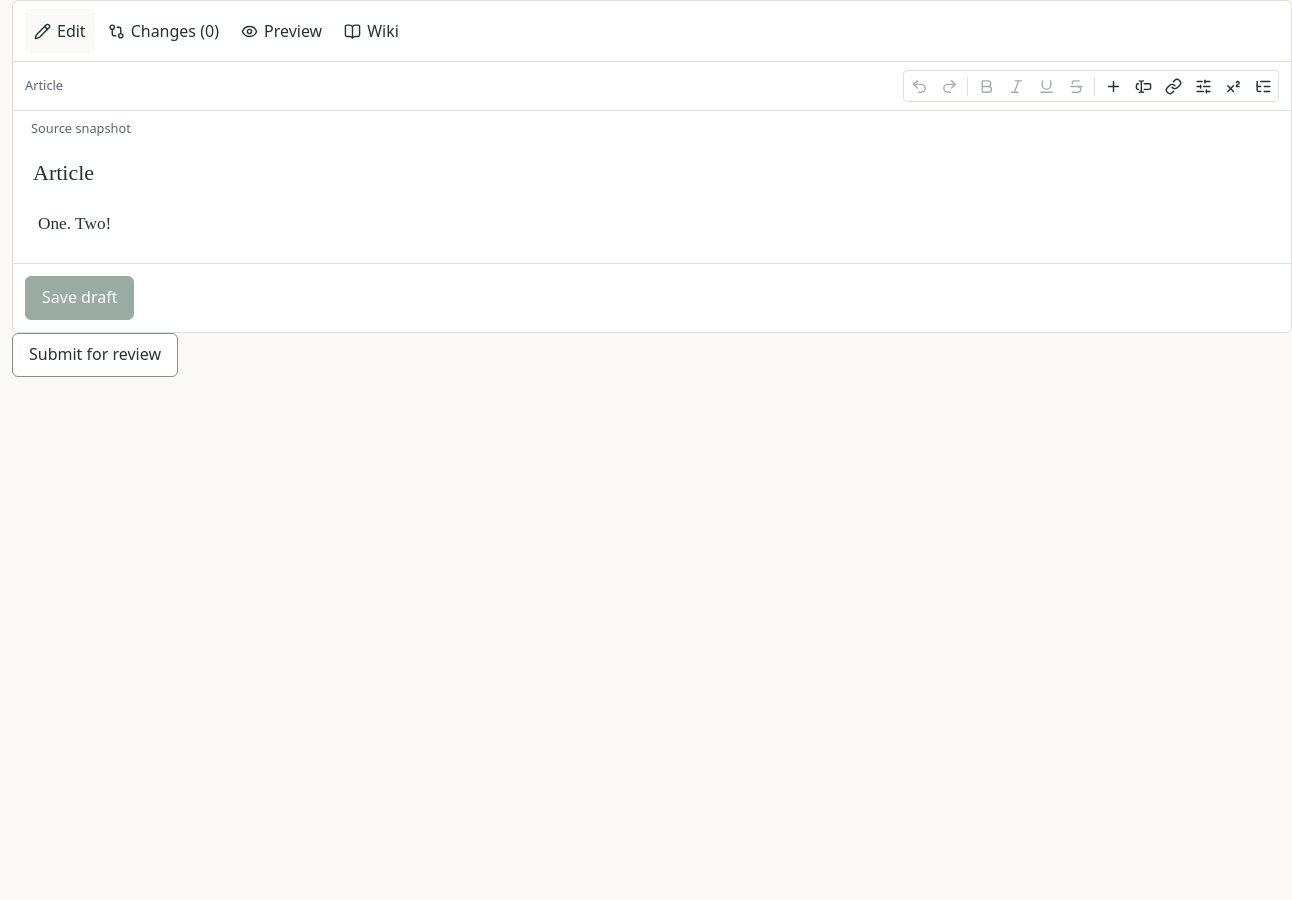
Test: compact structured editor acceptance › treats a pending note edit as unsaved and keeps local note undo separate until Apply
The image size is (1292, 900).
Click the button named "Footnotes": [1233, 86] box [1218,71,1248,101]
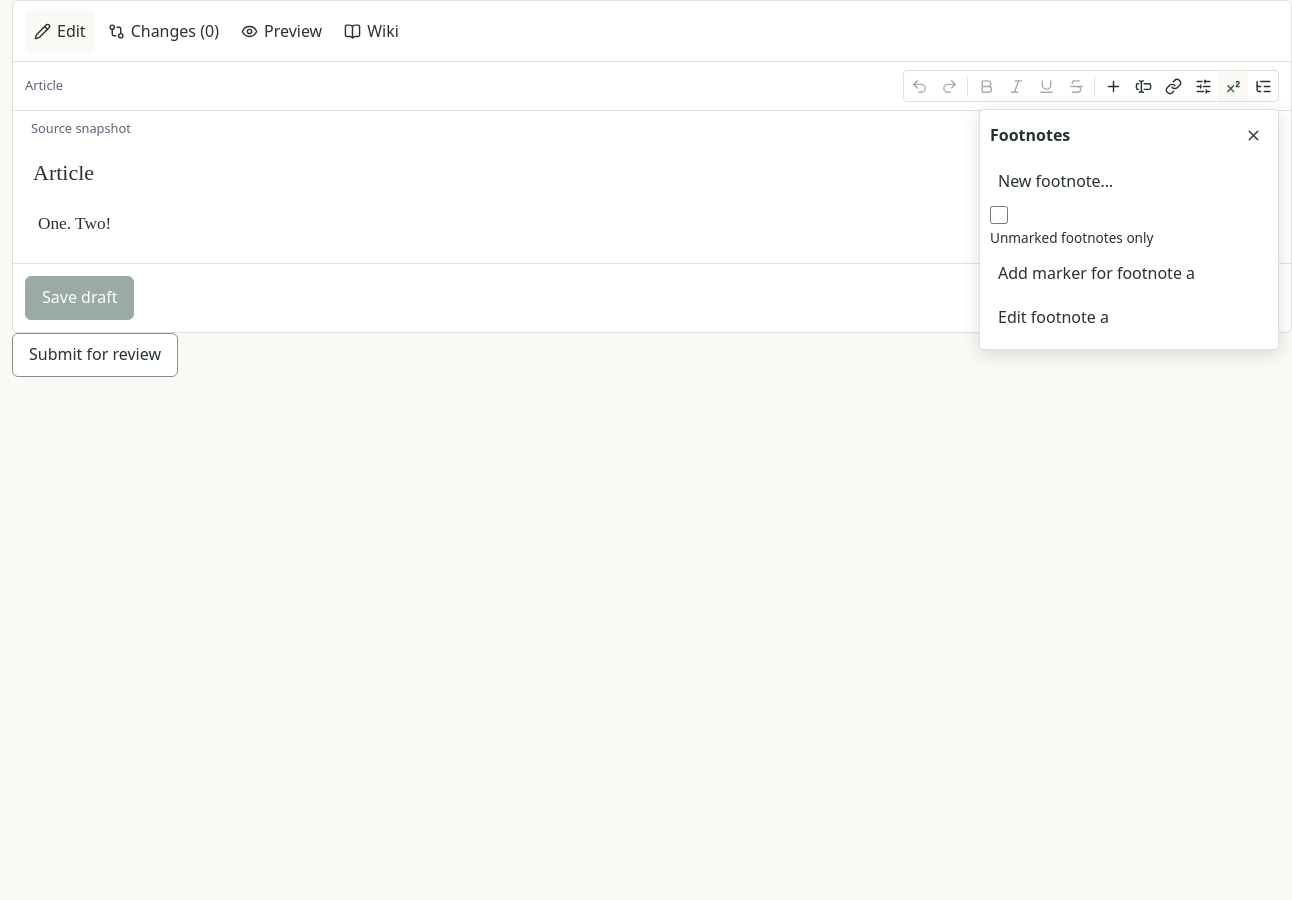
Check: the button "Edit footnote a" is shown
Click the button "Edit footnote a": [1047, 317] box [990,295,1268,339]
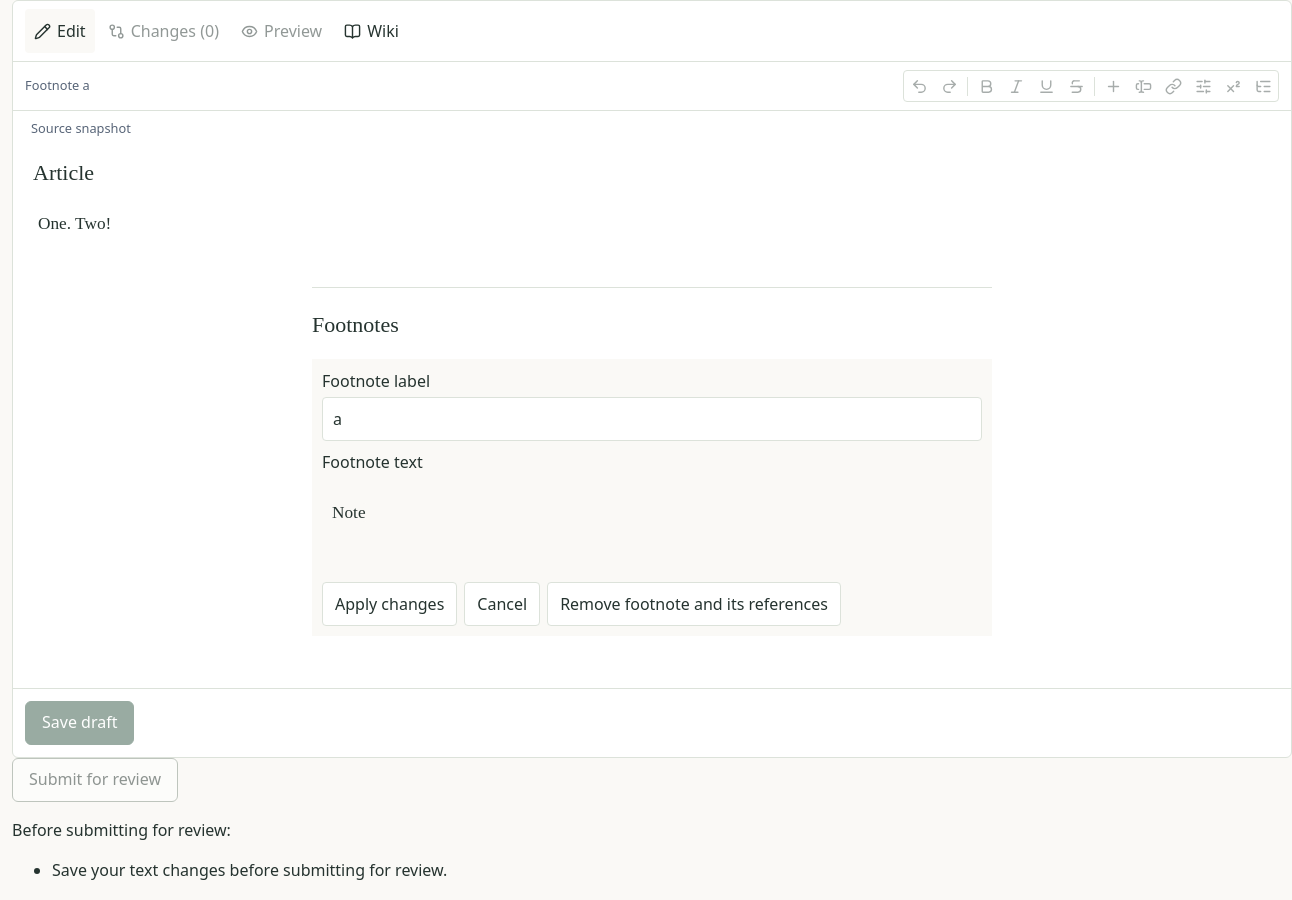
Replace the text in the field labelled "Footnote label" with "b": [652, 419] box [322,397,982,441]
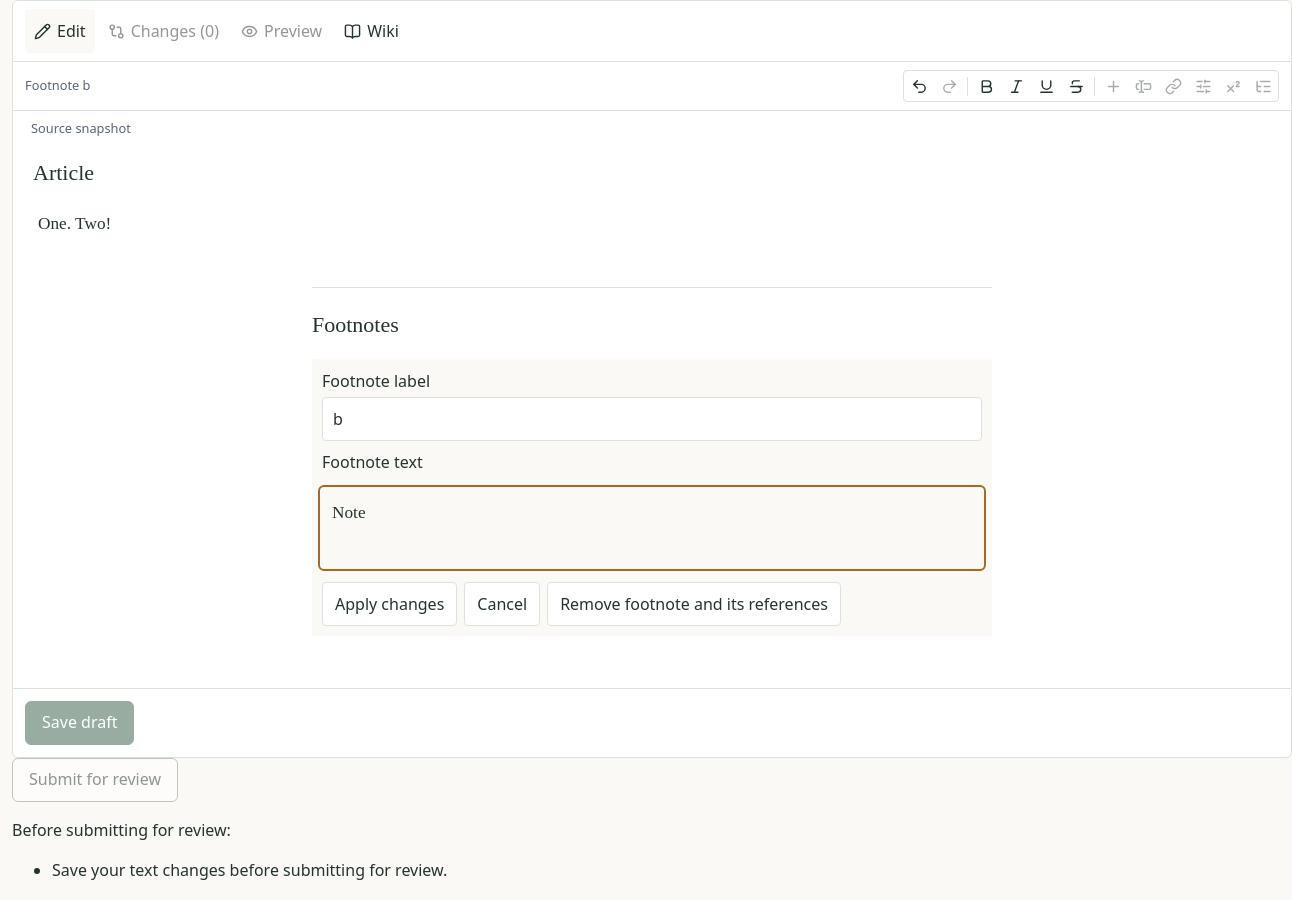
Check: the button "Submit for review" is disabled, box [12,758,178,802]
Click the button named "Undo": [919, 86] box [904,71,934,101]
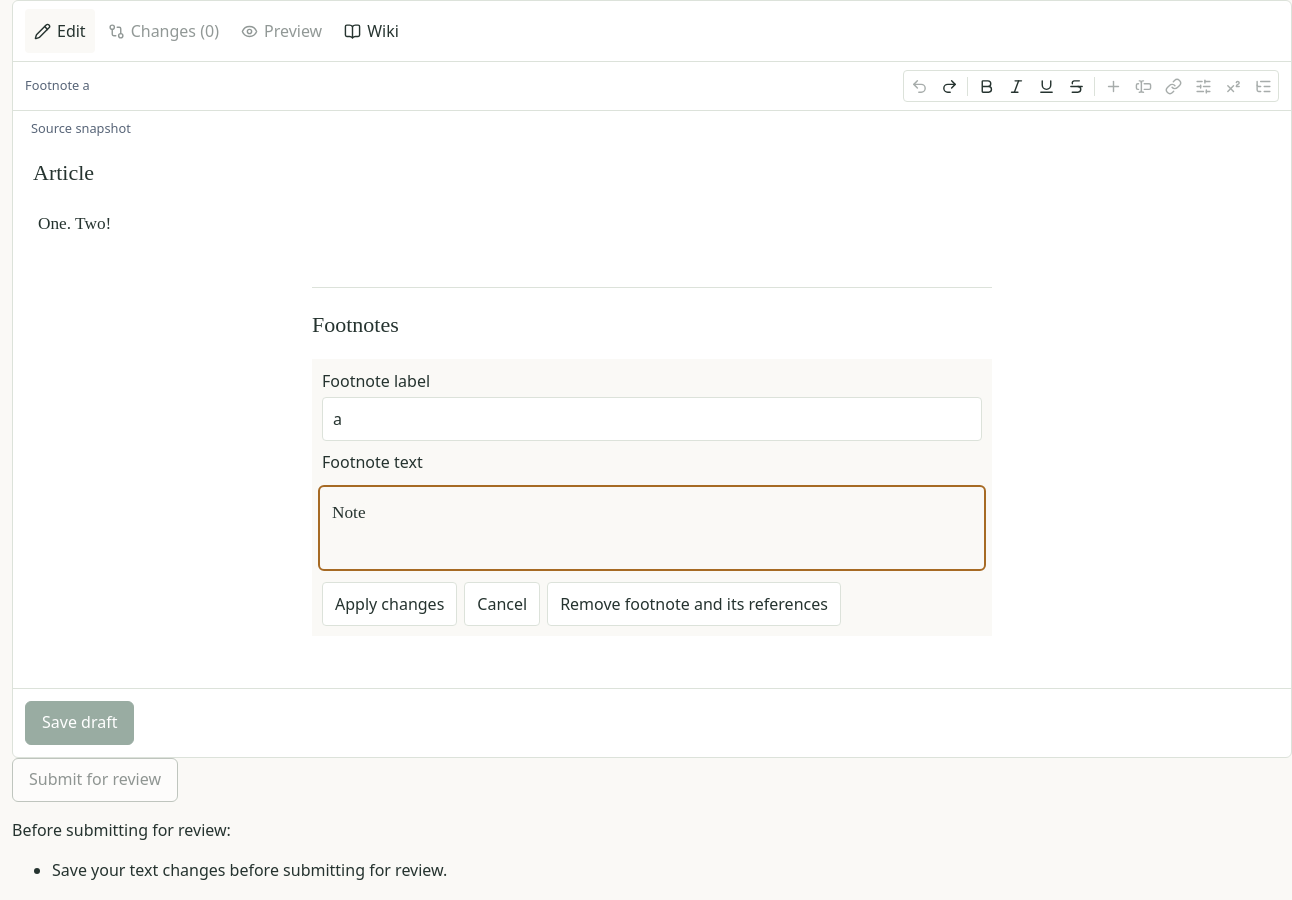
Click the button named "Redo": [949, 86] box [934,71,964,101]
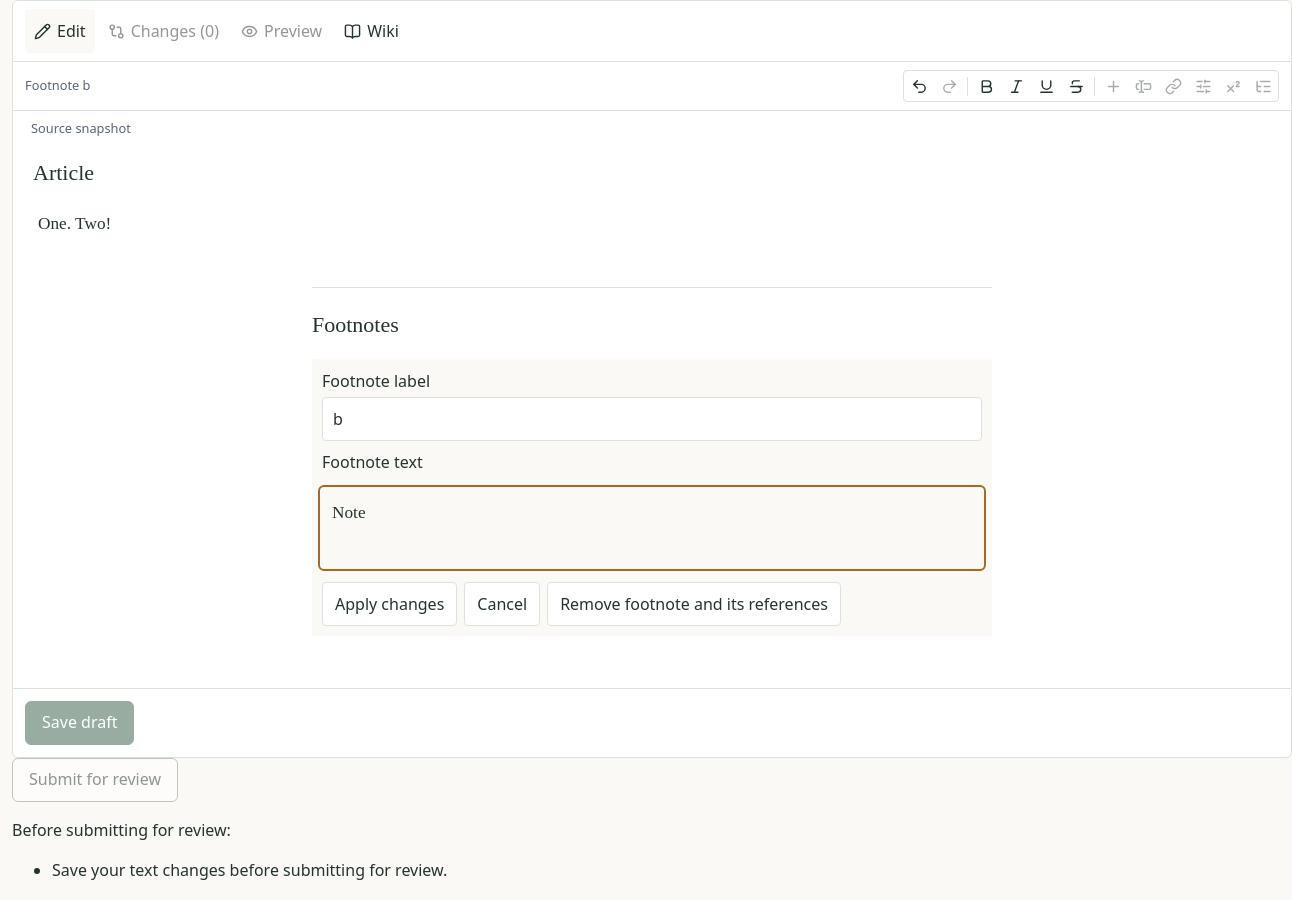
Check: the button "Cancel" is shown
Click the button "Cancel": [502, 604] box [464,582,540,626]
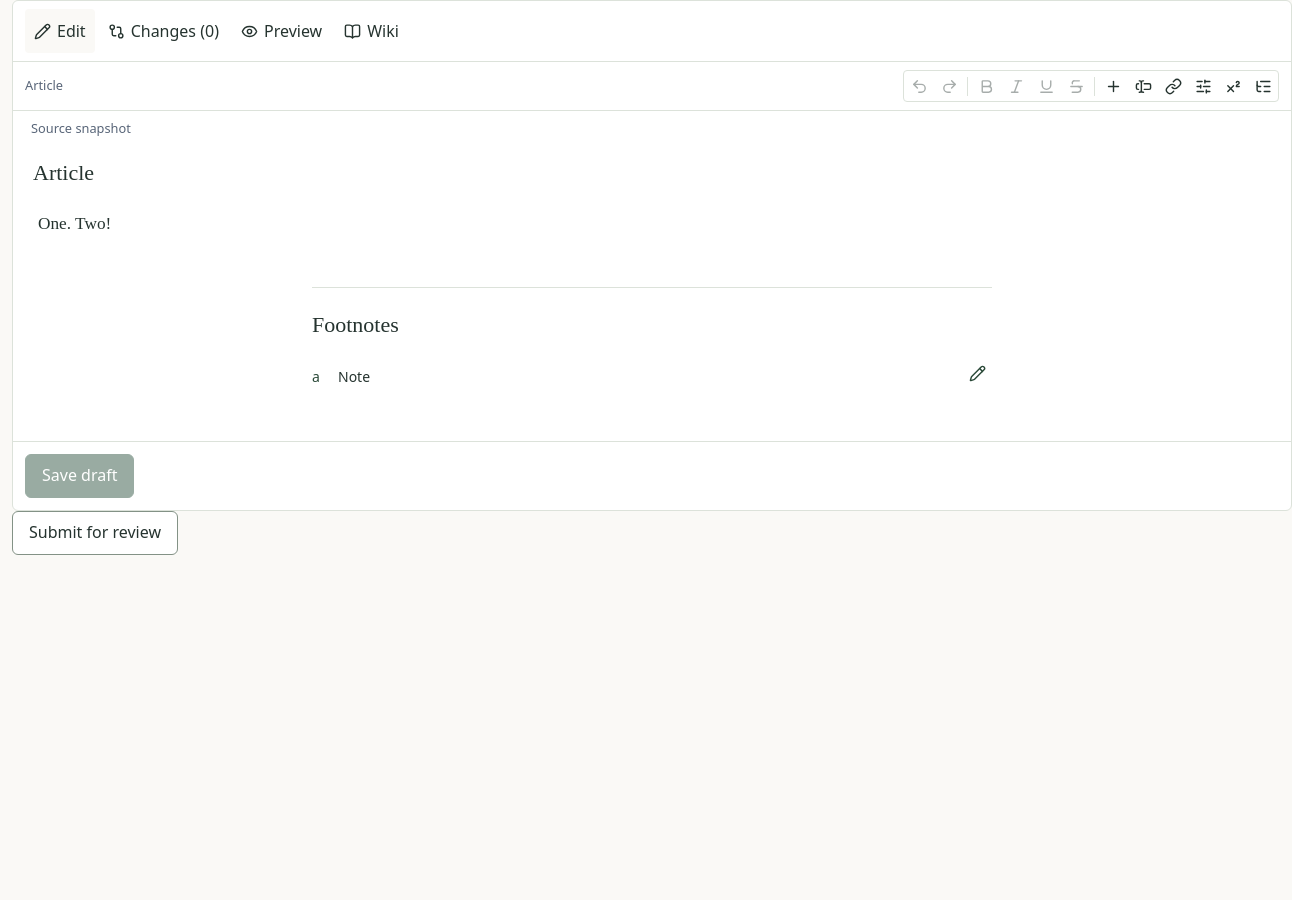
Check: the button "Submit for review" is enabled, box [12,511,178,555]
